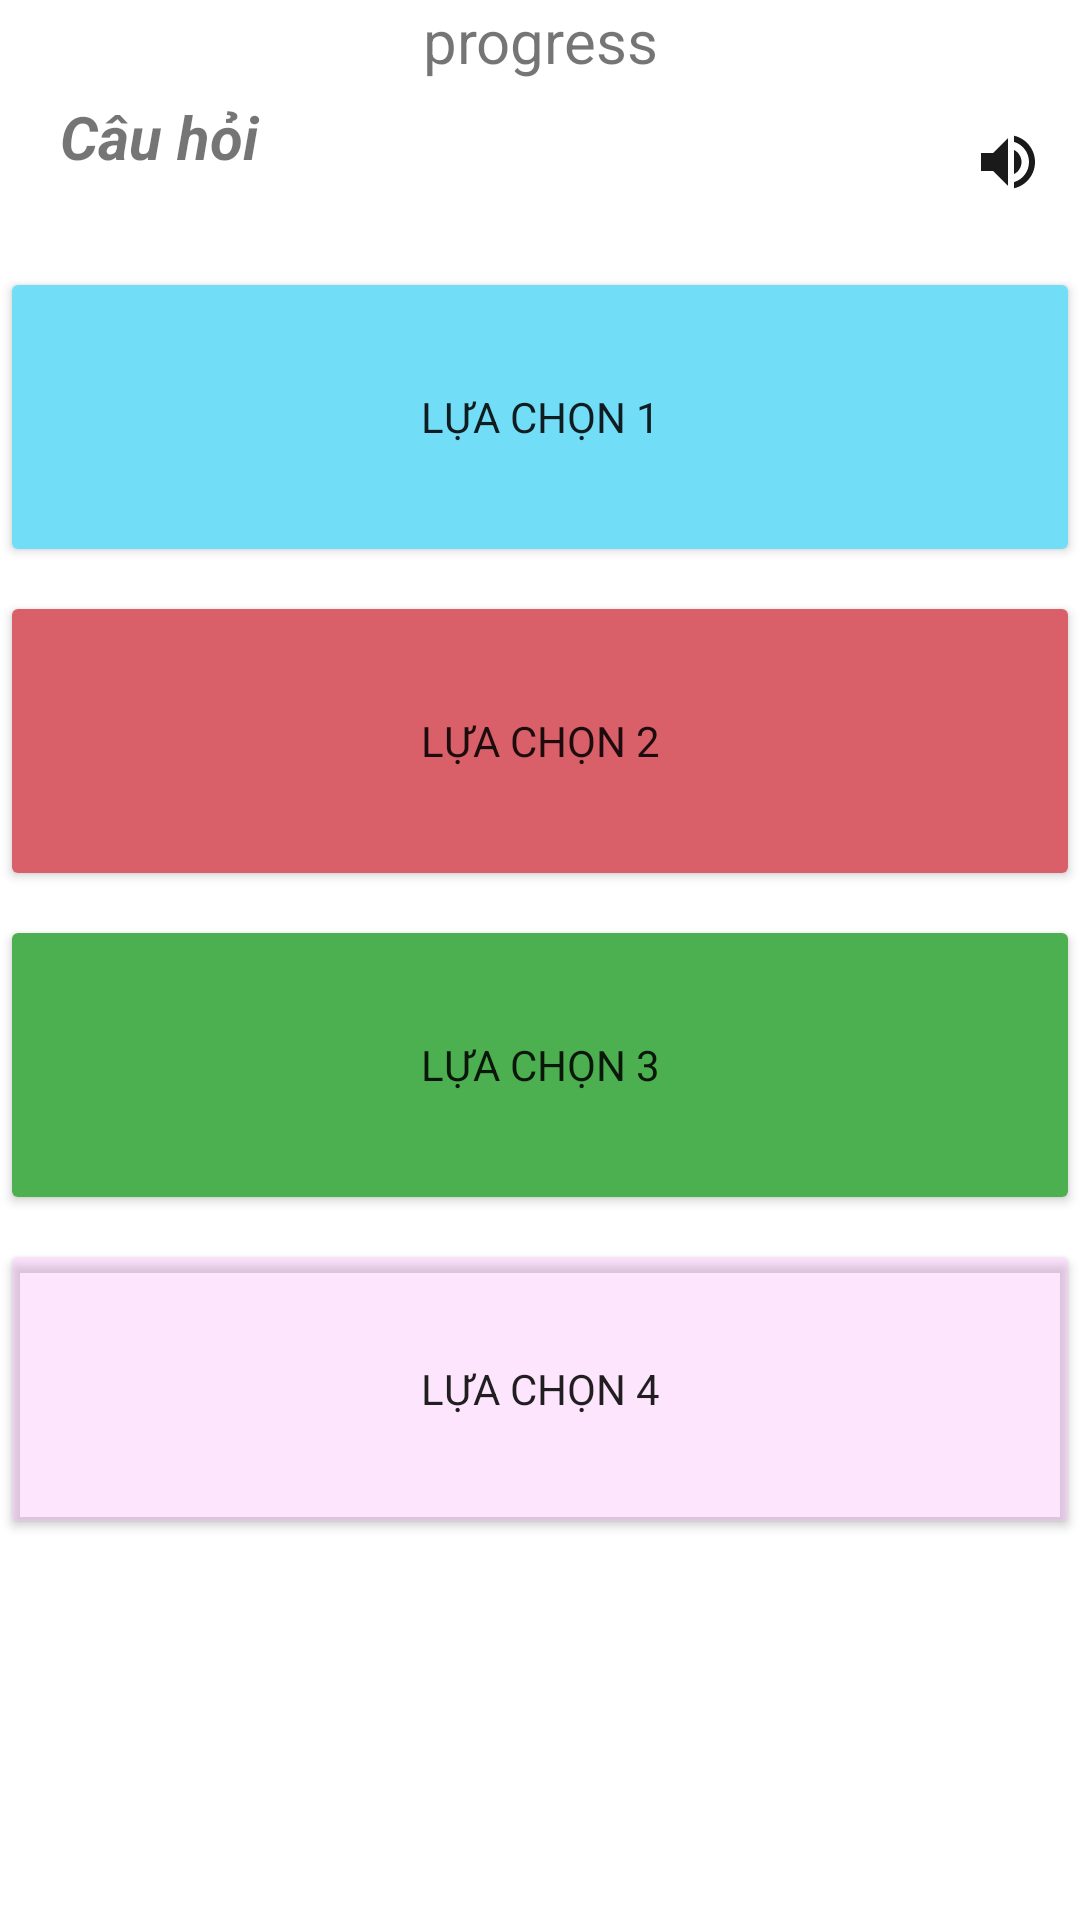

Screen size 1080px x 1920px. Icon name, then its box in pixels as (x1, y1, x2, y2):
volume up: (981, 135, 1035, 189)
